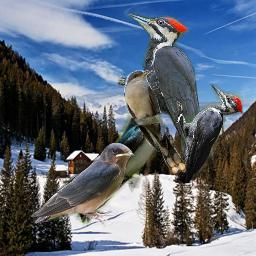Cuckoo: (124, 70, 186, 174)
Swallow: (74, 95, 162, 228), (30, 142, 135, 227)
Woodpecker: (118, 12, 207, 175), (175, 84, 243, 183)
